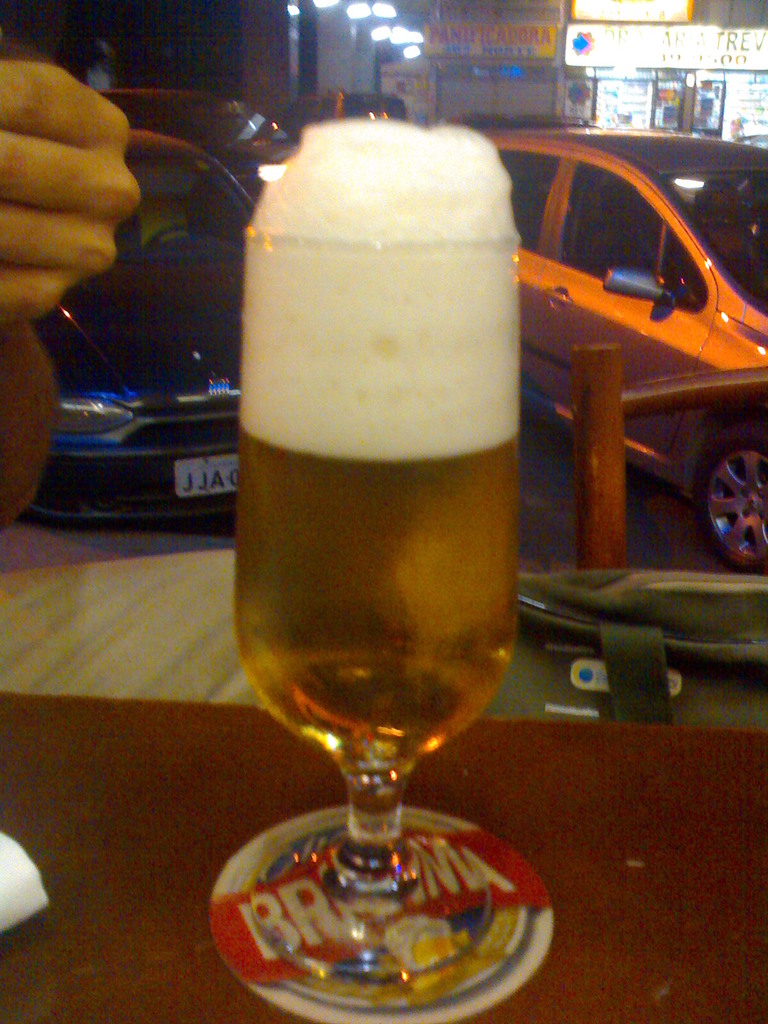Beer: (218, 122, 517, 743)
